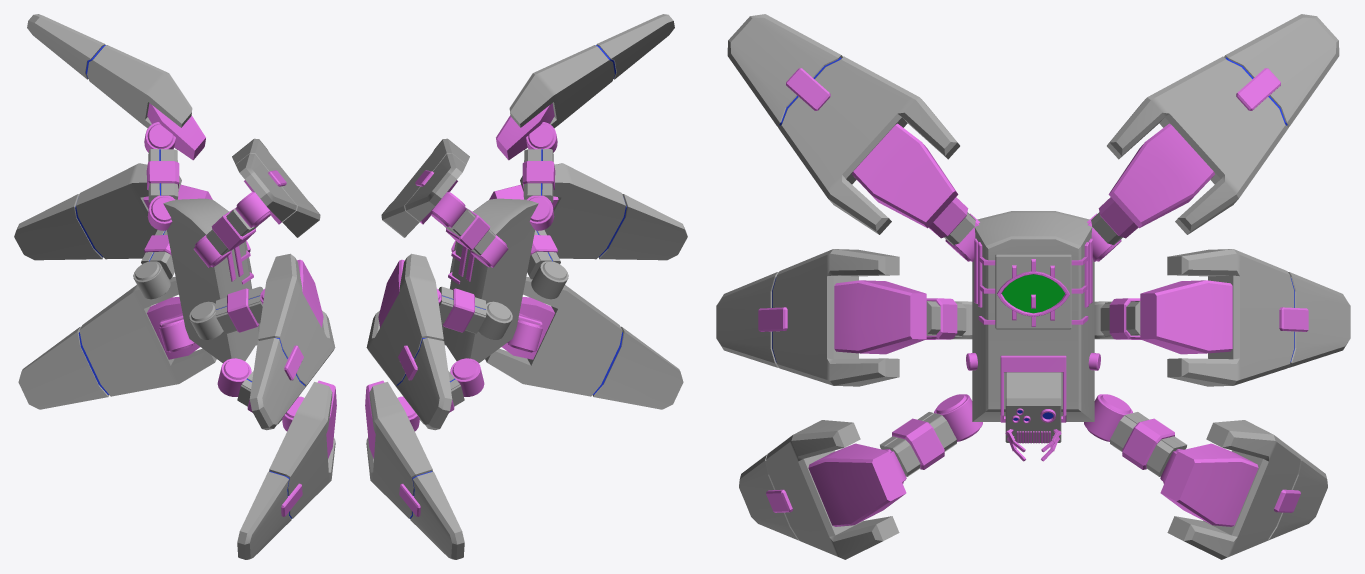
The model's file is Boss_v1.fbx.
3 views of the same model, side by side, from view 1: azimuth 30°, elevation 25°; view 2: azimuth 150°, elevation 25°; view 3: azimuth 270°, elevation 25° (orthographic). The views are drawn at different scales.
Visible parts, largest first — view 1: polySurface24 (×2), polySurface28 (×2), polySurface32 (×2), Corps, pCylinder3 (×6), pCube1 (×4), pCube6 (×3), polySurface25 (×2), polySurface30 (×2), polySurface33, polySurface29 (×2), polySurface27; view 2: polySurface24 (×2), polySurface28 (×2), polySurface32 (×2), Corps, pCylinder3 (×6), pCube1 (×4), pCube6 (×3), polySurface25 (×2), polySurface30 (×2), polySurface33, polySurface29 (×2), polySurface27; view 3: polySurface32 (×2), polySurface28 (×2), polySurface24 (×2), Corps, polySurface29 (×2), polySurface33 (×2), polySurface25 (×2), pCube6 (×6), pCube1 (×4), Tete, pCube18, pCylinder3 (×2) (+3 smaller).
Part boxes in pixels (x1,y1,x2,y2): polySurface24 (×2): [18, 276, 335, 559]; polySurface28 (×2): [14, 163, 335, 430]; polySurface32 (×2): [27, 14, 320, 237]; Corps: [163, 198, 258, 362]; pCylinder3 (×6): [133, 195, 251, 396]; pCube1 (×4): [141, 149, 263, 333]; pCube6 (×3): [146, 161, 258, 332]; polySurface25 (×2): [147, 297, 336, 458]; polySurface30 (×2): [144, 122, 270, 227]; polySurface33: [147, 103, 205, 160]; polySurface29 (×2): [143, 184, 323, 327]; polySurface27: [284, 345, 303, 380]; polySurface24 (×2): [366, 276, 683, 559]; polySurface28 (×2): [366, 163, 687, 430]; polySurface32 (×2): [381, 14, 674, 237]; Corps: [443, 198, 538, 362]; pCylinder3 (×6): [450, 195, 568, 396]; pCube1 (×4): [438, 149, 560, 333]; pCube6 (×3): [443, 161, 555, 332]; polySurface25 (×2): [365, 297, 554, 458]; polySurface30 (×2): [431, 122, 557, 227]; polySurface33: [496, 103, 554, 160]; polySurface29 (×2): [378, 184, 558, 327]; polySurface27: [398, 345, 417, 380]; polySurface32 (×2): [727, 14, 1339, 234]; polySurface28 (×2): [716, 249, 1350, 386]; polySurface24 (×2): [739, 420, 1327, 559]; Corps: [972, 211, 1094, 421]; polySurface29 (×2): [834, 280, 1232, 354]; polySurface33 (×2): [852, 123, 1214, 228]; polySurface25 (×2): [808, 443, 1258, 526]; pCube6 (×6): [892, 197, 1174, 469]; pCube1 (×4): [880, 301, 1186, 476]; Tete: [1005, 372, 1061, 442]; pCube18: [995, 254, 1071, 329]; pCylinder3 (×2): [934, 394, 1132, 441].
Bounding box in the file's own units: 49.01 × 120 × 135.
